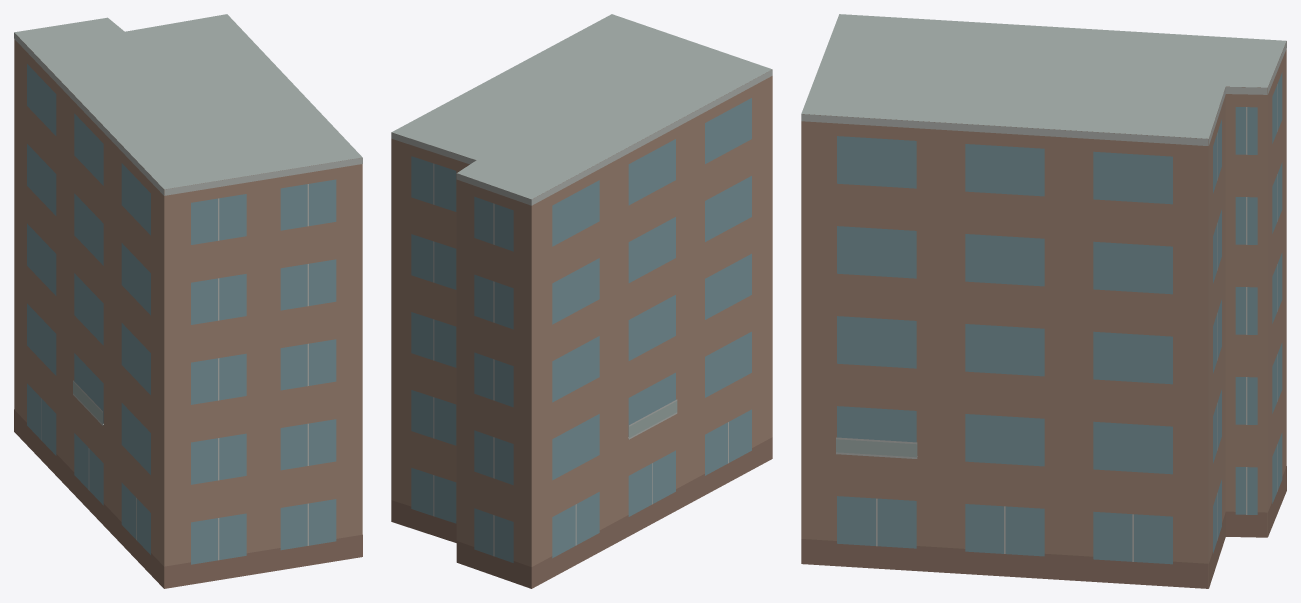
File: survey-upis-32894265.glb
3 renders of one model, left to right at view 1: azimuth 30°, elevation 25°; view 2: azimuth 150°, elevation 25°; view 3: azimuth 270°, elevation 25°, orthographic. The views are drawn at different scales.
Parts seen in each view (by area): view 1: survey-upis-32894265.tmp; view 2: survey-upis-32894265.tmp; view 3: survey-upis-32894265.tmp.
Part boxes in pixels (x1,y1,x2,y2): survey-upis-32894265.tmp: (14, 14, 362, 588); survey-upis-32894265.tmp: (391, 14, 772, 588); survey-upis-32894265.tmp: (801, 14, 1286, 588).
Size of the model in its own units: 8.93 by 15 by 14.68.
